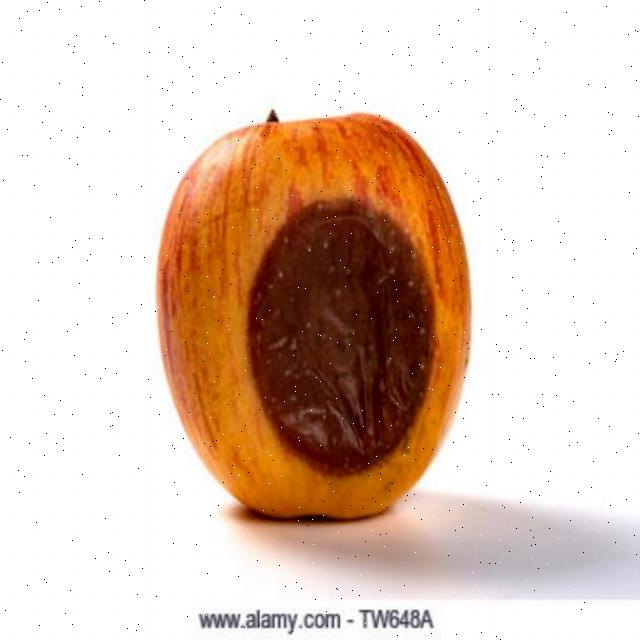ROT: (154, 99, 492, 552)
